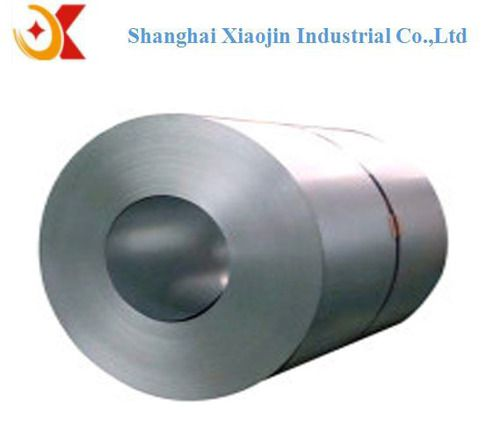steel-coil: (50, 100, 451, 377)
